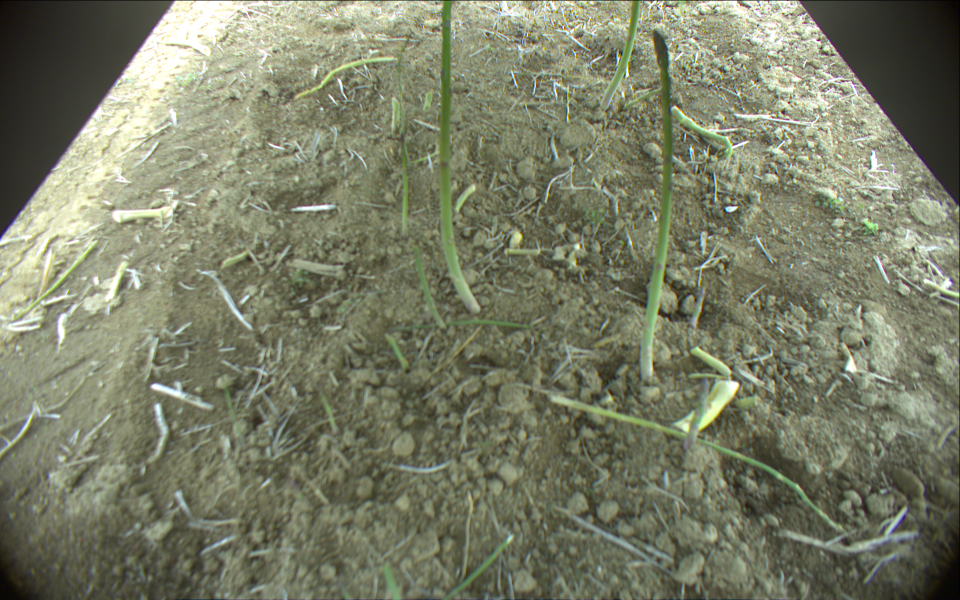aspa: (550, 395, 842, 532), (641, 26, 675, 376), (10, 240, 97, 324), (295, 55, 398, 102), (600, 1, 641, 110), (667, 100, 734, 155), (675, 379, 739, 431), (412, 247, 449, 332), (395, 130, 411, 240), (686, 380, 709, 448), (684, 287, 708, 335), (389, 95, 404, 130), (425, 89, 433, 113)
